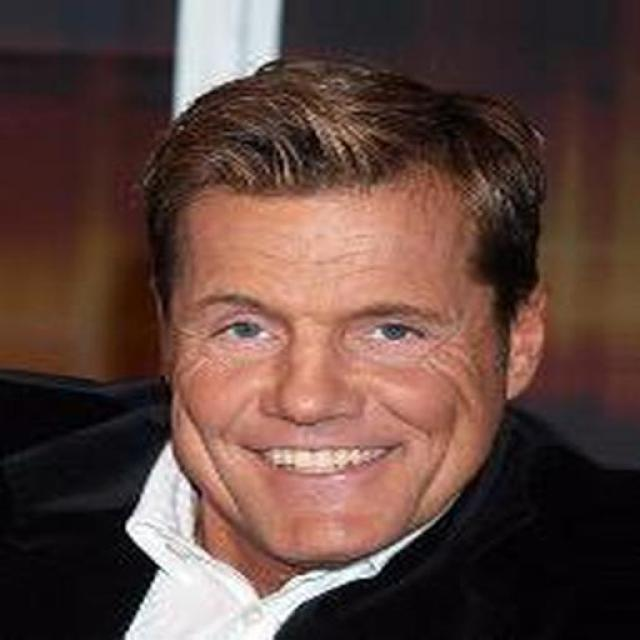bareface: (164, 111, 518, 538)
